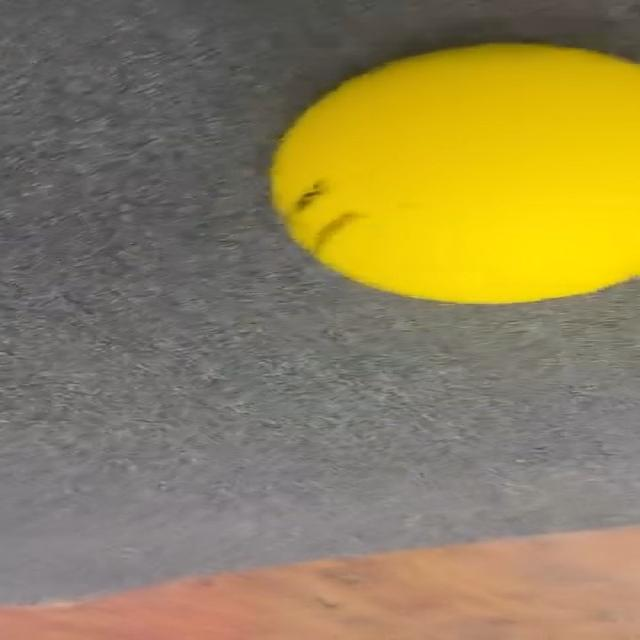Fuels: (268, 42, 640, 306)
